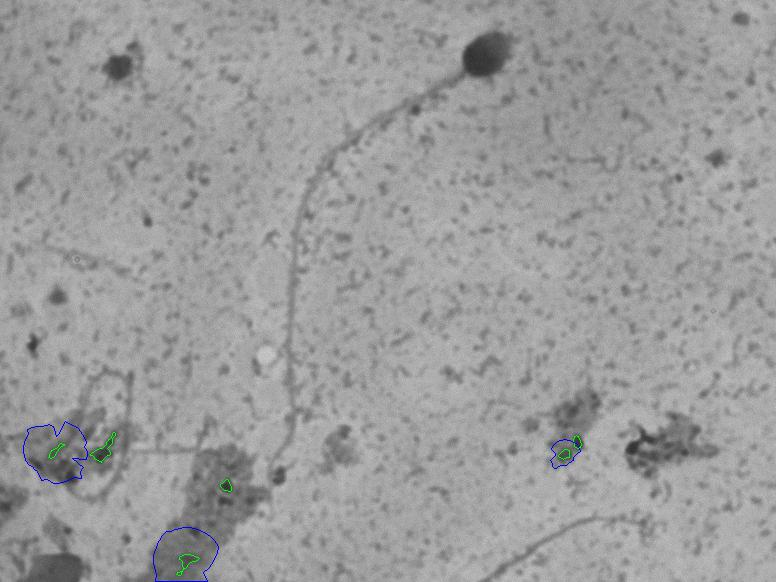Normal: (262, 16, 531, 522)
